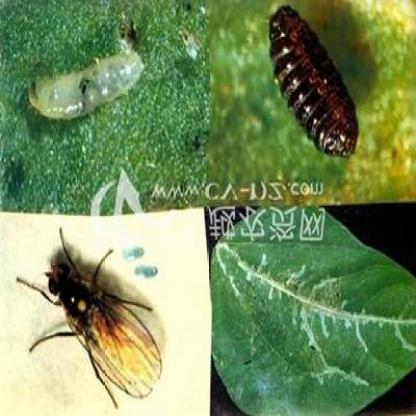whorl-maggot: (260, 0, 372, 164), (20, 44, 150, 123)
